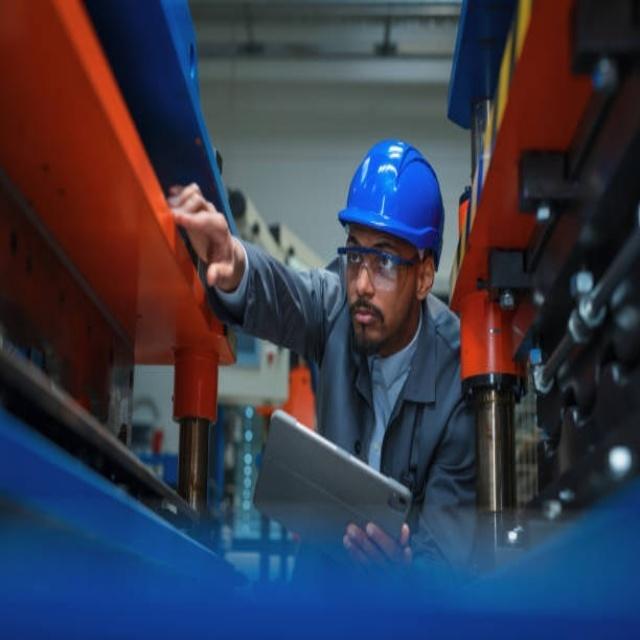Gafas: (337, 244, 421, 292)
Sin_guantes: (165, 171, 241, 292), (344, 519, 412, 568)
Sin_mascara: (348, 300, 381, 345)
